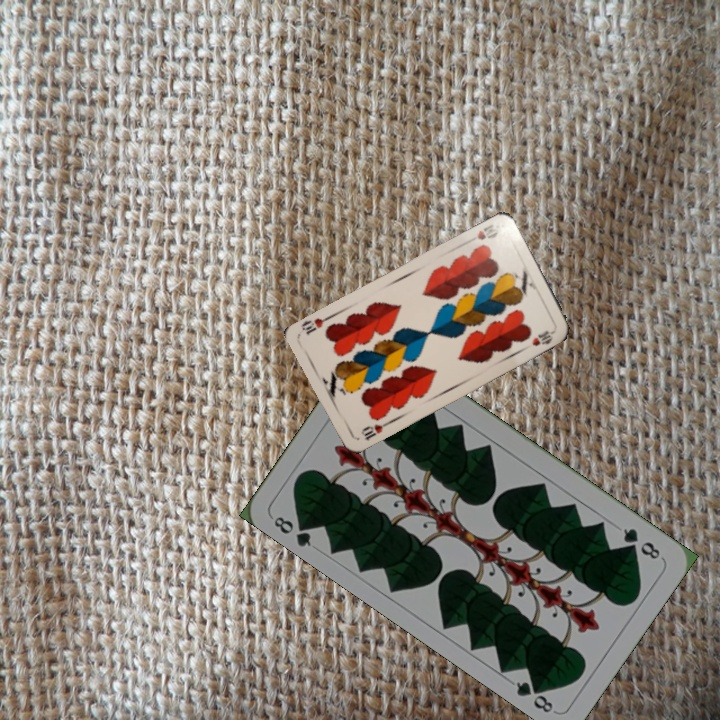G8: (269, 512, 316, 550), (619, 524, 663, 562)
H10: (357, 417, 393, 443), (473, 220, 501, 243)
